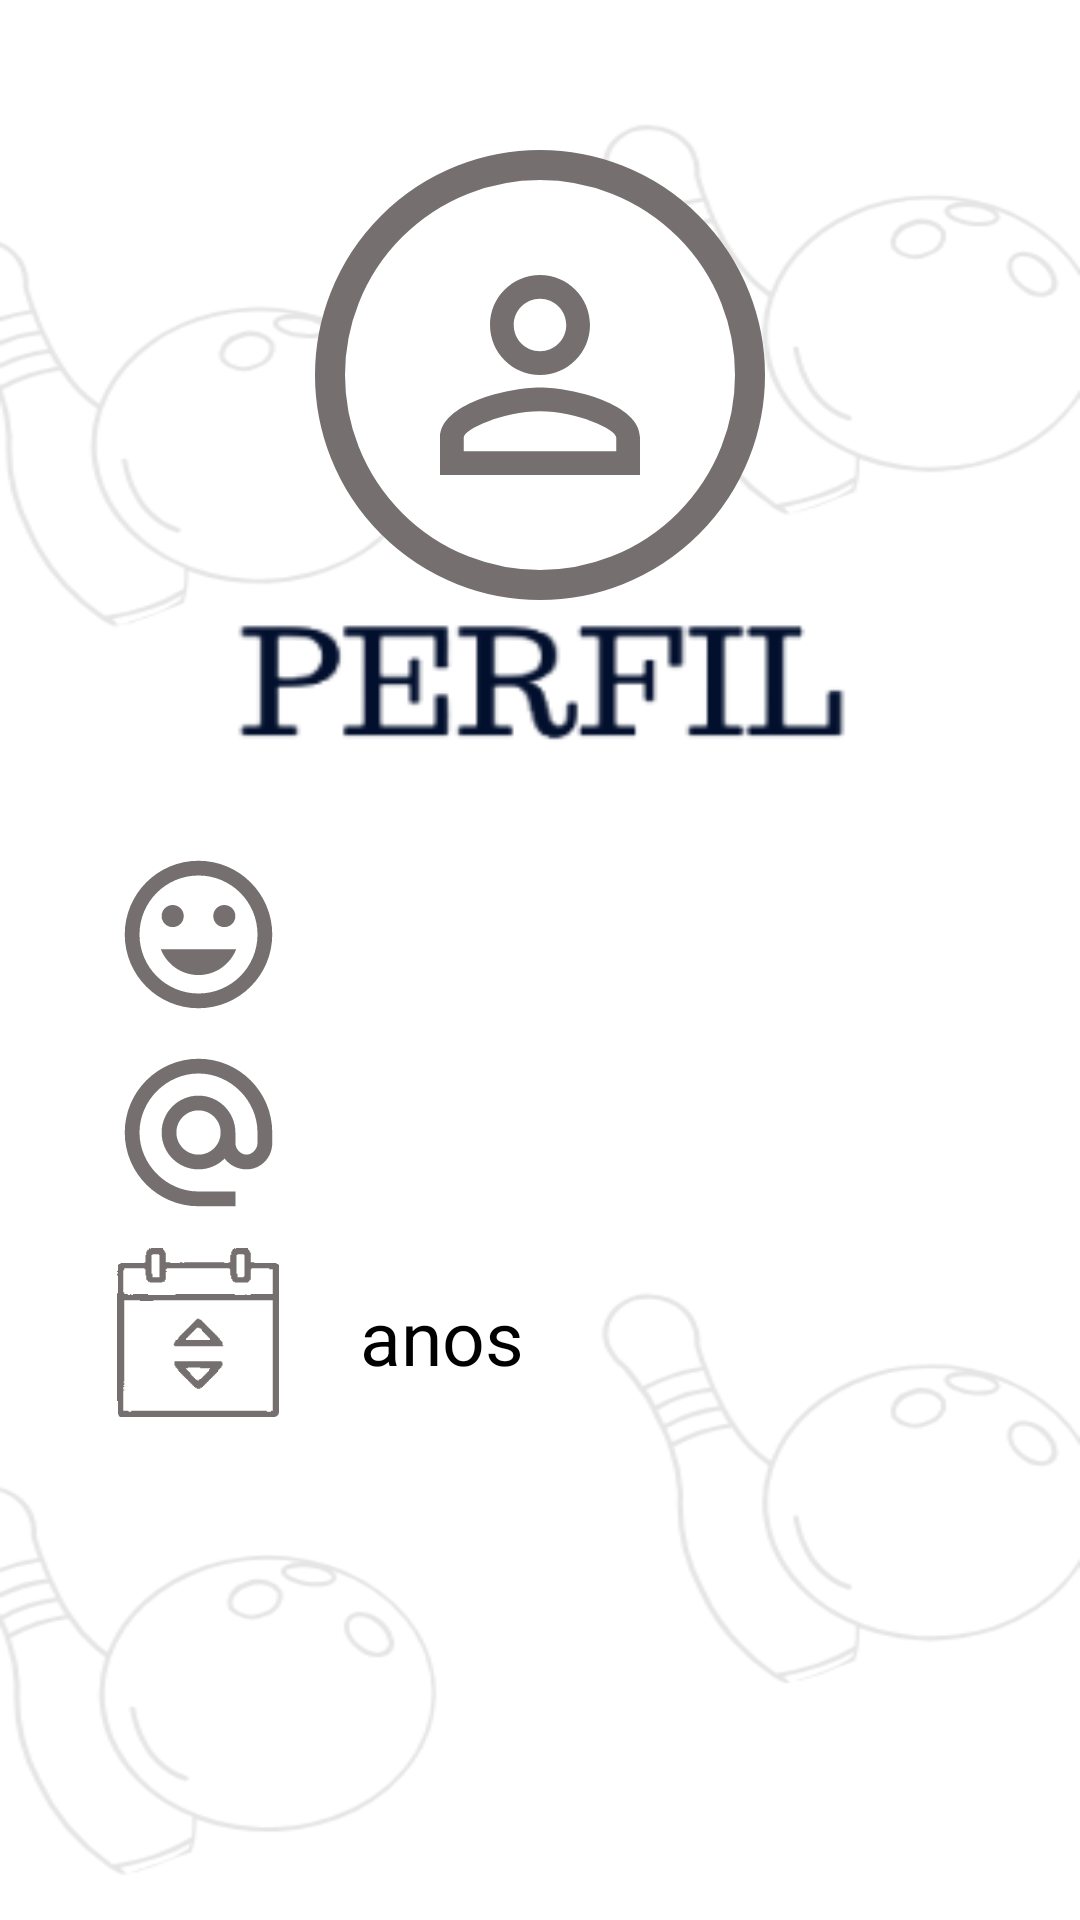

Named icons in this screenshot (1080×1920) and their centers, (x,y):
email: (198,1132)
smile: (198,934)
